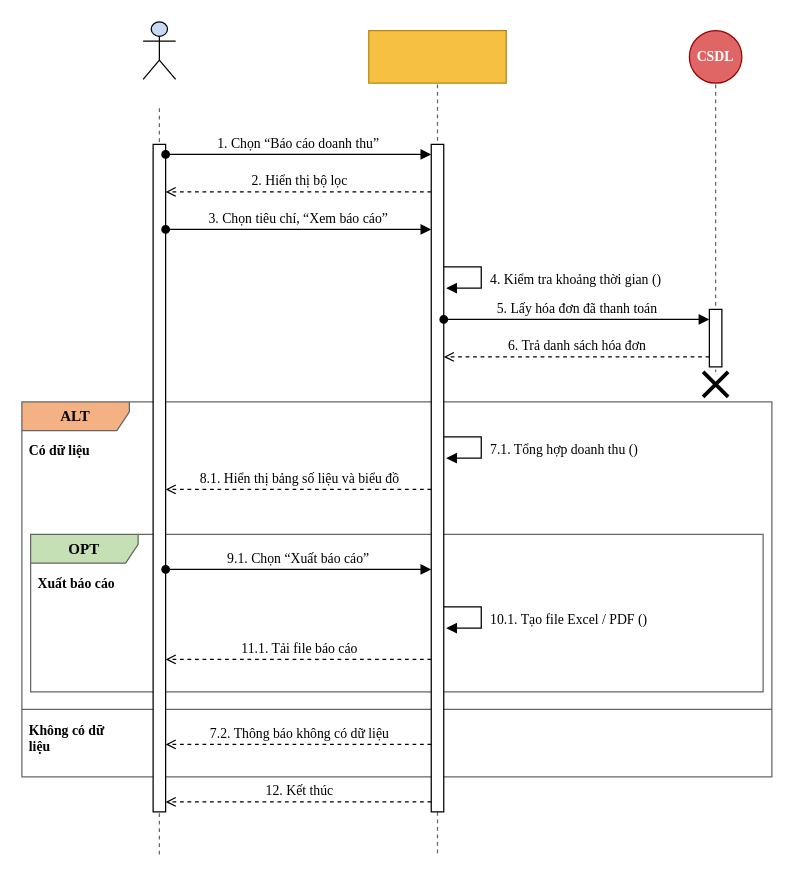
The diagram is 795 pixels wide and 879 high, and some of its shapes have lost their labels. The centre of each missing label's shape, as x and y in pixels:
"HỆ THỐNG" goes at (x=437, y=56).
"Quản lý" goes at (x=159, y=50).
